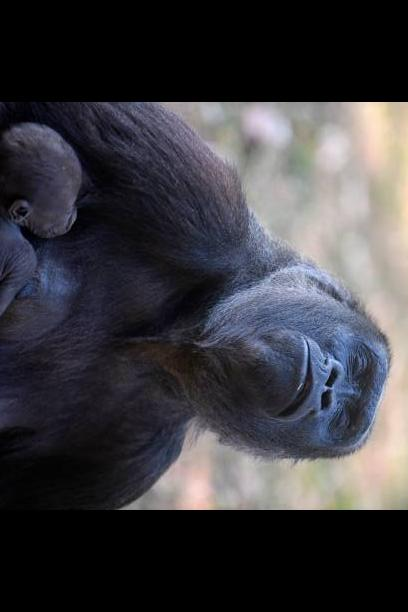gorille_Autres: (0, 124, 408, 510)
